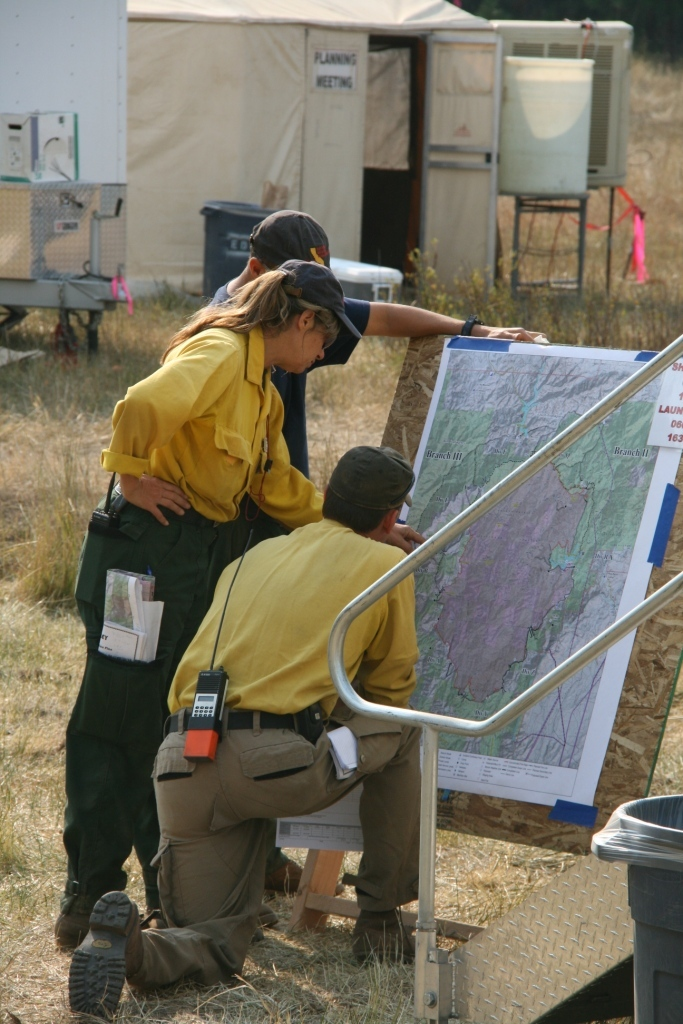Person: (202, 207, 548, 891), (67, 446, 422, 1023)
